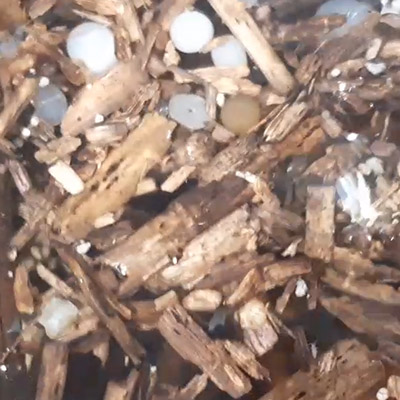nurdle: (60, 20, 124, 78), (166, 11, 218, 53), (164, 92, 215, 134), (36, 296, 82, 341), (28, 84, 72, 129)
